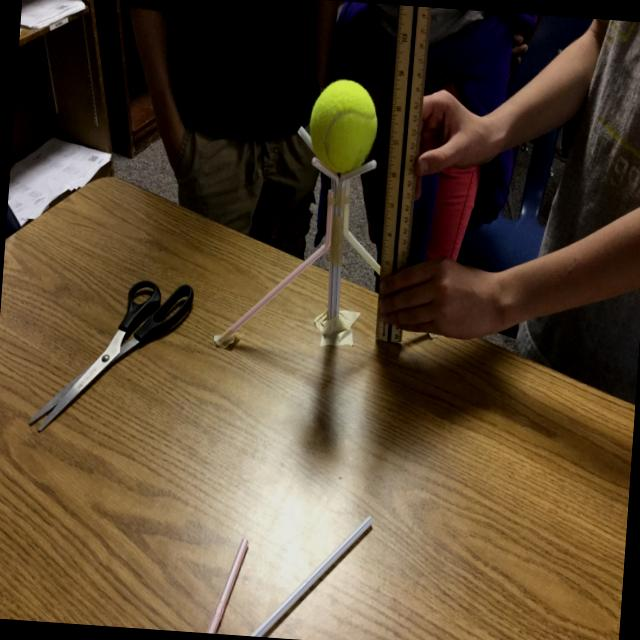Tennis Ball: (306, 78, 380, 174)
